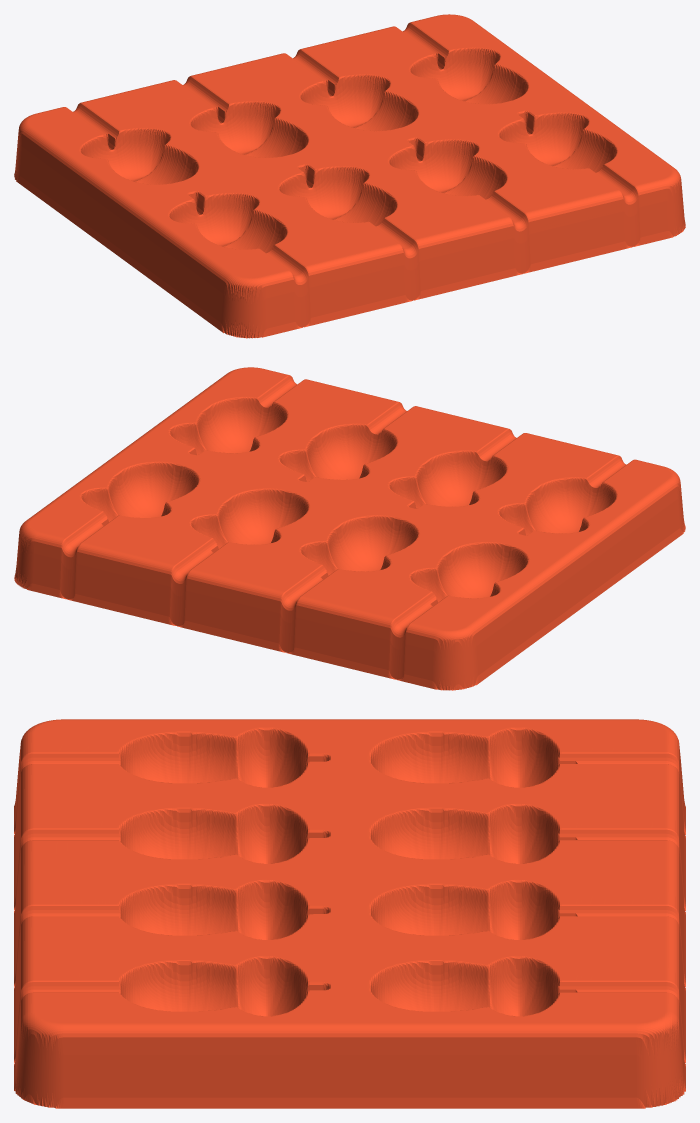
The model's file is mold.glb.
The picture shows the model from 3 angles, top to bottom: view 1: azimuth 30°, elevation 25°; view 2: azimuth 150°, elevation 25°; view 3: azimuth 270°, elevation 25°; orthographic projection. The views are drawn at different scales.
Visible parts, largest first — view 1: geometry_0; view 2: geometry_0; view 3: geometry_0.
Boxes of the visible parts, x1,y1,x2,y2 form: geometry_0: (14, 14, 685, 338); geometry_0: (14, 367, 685, 690); geometry_0: (14, 719, 685, 1108).
Bounding box in the file's own units: 0.1382 × 0.0155 × 0.1229.
